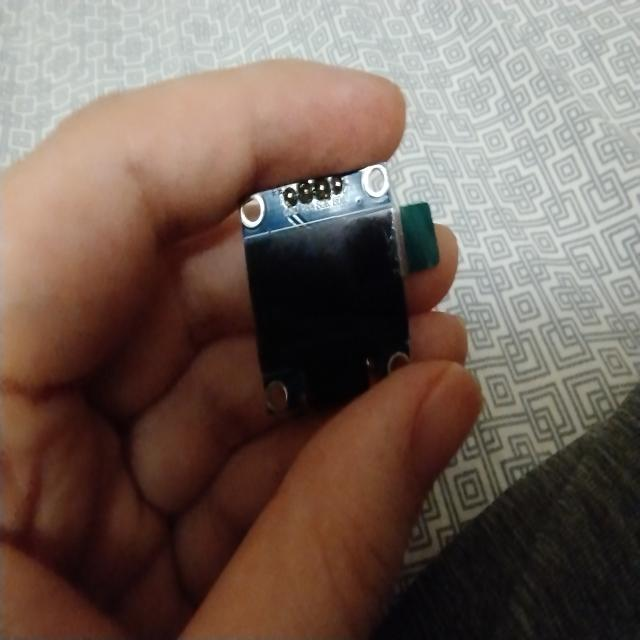oled: (236, 159, 440, 425)
